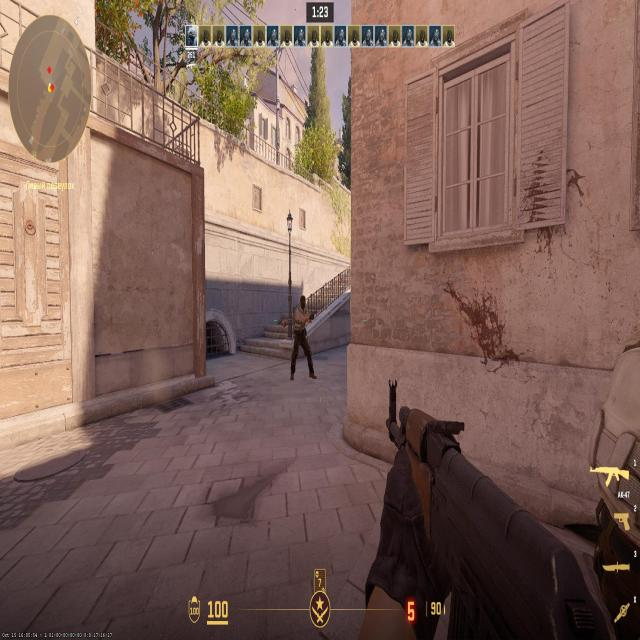T: (296, 291, 310, 371)
T_heat: (299, 302, 303, 313)
